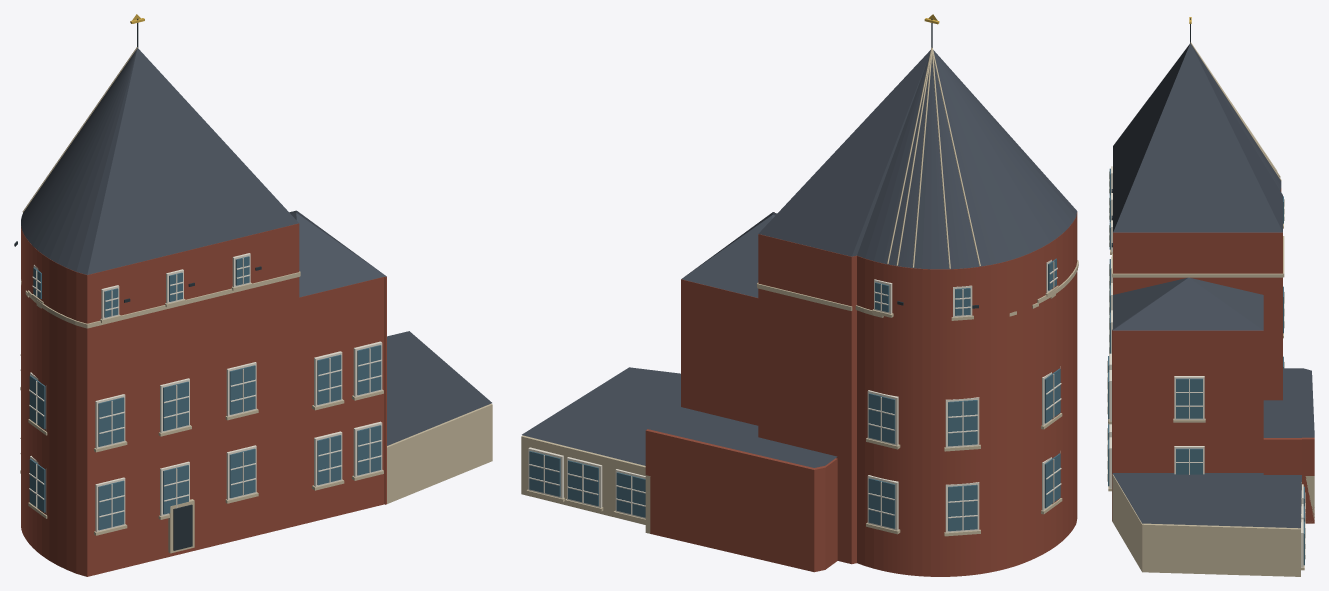
The model's file is schreierstoren.glb.
3 renders of one model, left to right at view 1: azimuth 30°, elevation 25°; view 2: azimuth 150°, elevation 25°; view 3: azimuth 270°, elevation 25°, orthographic. The views are drawn at different scales.
Parts seen in each view (by area): view 1: schreierstoren; view 2: schreierstoren; view 3: schreierstoren.
Part boxes in pixels (x1=…): schreierstoren: x1=14, y1=14, x2=492, y2=576; schreierstoren: x1=521, y1=14, x2=1078, y2=576; schreierstoren: x1=1107, y1=17, x2=1314, y2=576.
Size of the model in its own units: 22.51 by 24.28 by 10.77.
